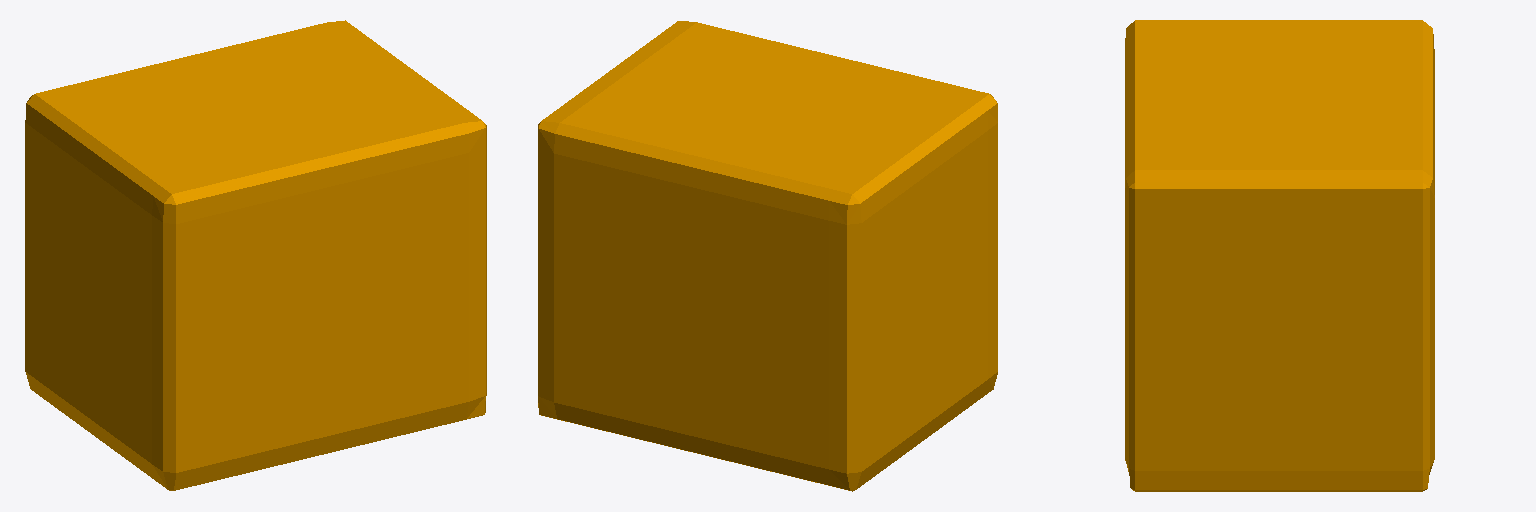
URDF robot description (cylinder_box_58):
<?xml version="1.0" encoding="utf-8"?>  <robot name="cylinder_box_58">   <link name="cylinder_box_58">     <visual>       <geometry>         <mesh filename="../meshes/box/box_58.stl" scale="1 1 1"/>       </geometry>     </visual>     <collision>       <geometry>         <mesh filename="../meshes/box/box_58.stl" scale="1 1 1"/>       </geometry>     </collision>     <inertial>        <origin         xyz="0 0 0"         rpy="0 0 0" />       <mass value="0.47678953759463144"/>       <origin rpy="0 0 0" xyz="0 0 0"/>       <inertia ixx="0.00042942120195948037" ixy="8.642423145493413e-08" ixz="3.452157099758492e-07" iyy="0.0005466057679616858" iyz="2.466333058452462e-08" izz="0.0005011446515363634"/>     </inertial>   </link>  </robot>

--- Render facts (derived) ---
The picture shows the robot from 3 angles, left to right: view 1: azimuth 30°, elevation 25°; view 2: azimuth 150°, elevation 25°; view 3: azimuth 270°, elevation 25°; orthographic projection.
Model cylinder_box_58 with 1 links and 0 joints (none), rooted at cylinder_box_58, posed every joint at zero.
Visible links, largest first — view 1: cylinder_box_58; view 2: cylinder_box_58; view 3: cylinder_box_58.
Boxes of the visible links, <box> form: cylinder_box_58: <box>25,20,486,490</box>; cylinder_box_58: <box>538,21,997,491</box>; cylinder_box_58: <box>1125,20,1434,491</box>.
Size in the robot's own frame: 0.0886 by 0.0699 by 0.0776 metres.
1 mesh visuals loaded from 1 distinct referenced files (1 binary STL).